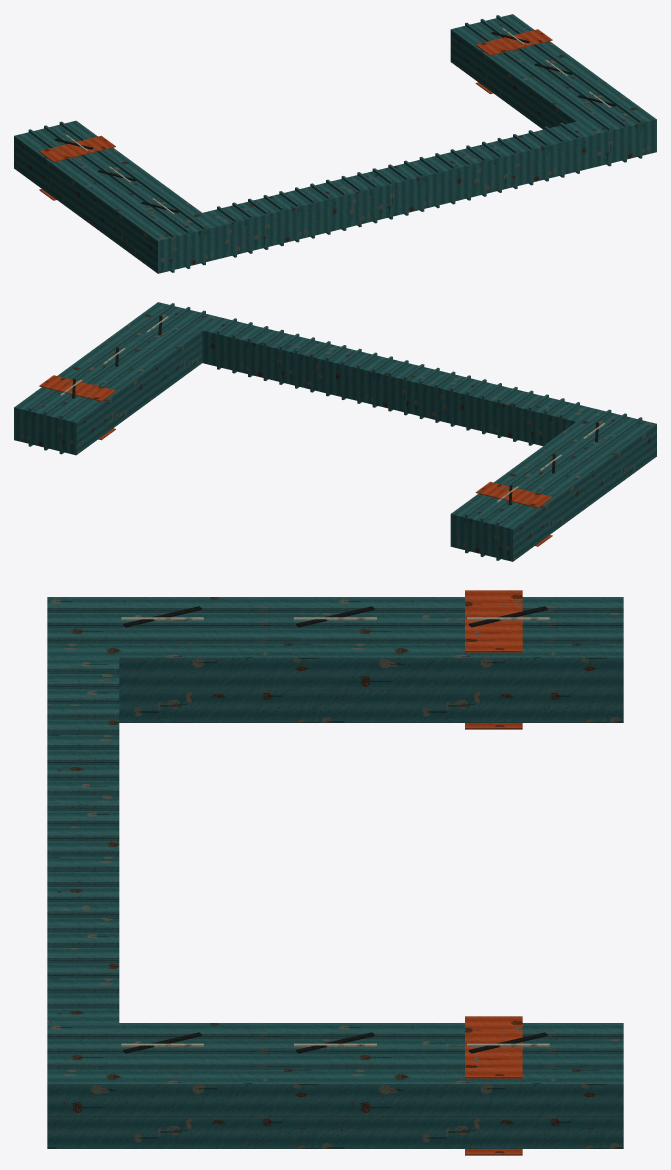
The model's file is corrugated_garage-light.obj.
3 renders of one model, top to bottom at view 1: azimuth 30°, elevation 25°; view 2: azimuth 150°, elevation 25°; view 3: azimuth 270°, elevation 25°, orthographic. The views are drawn at different scales.
Visible parts, largest first — view 1: corrugated_garage.Light; view 2: corrugated_garage.Light; view 3: corrugated_garage.Light.
Part boxes in pixels (x1,y1,x2,y2): corrugated_garage.Light: (14,14,656,273); corrugated_garage.Light: (14,302,656,561); corrugated_garage.Light: (47,590,623,1155).
Bounding box in the file's own units: 16 × 1.37 × 8.
Materials: 4 (4 with a texture image).
